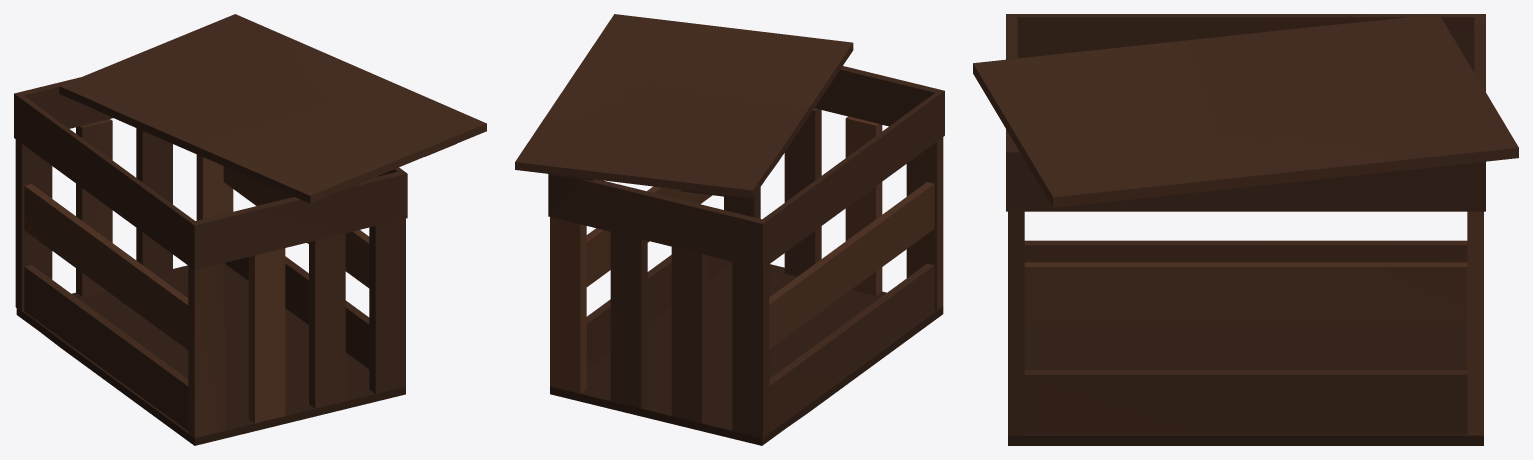
File: Small Dark Crate Open Lid.fbx
3 views of the same model, side by side, from view 1: azimuth 30°, elevation 25°; view 2: azimuth 150°, elevation 25°; view 3: azimuth 270°, elevation 25° (orthographic). The views are drawn at different scales.
Visible parts, largest first — view 1: Small Dark Crate Open Lid; view 2: Small Dark Crate Open Lid; view 3: Small Dark Crate Open Lid.
Part boxes in pixels (left/top/right/bottom): Small Dark Crate Open Lid: left=14, top=14, right=486, bottom=445; Small Dark Crate Open Lid: left=515, top=14, right=944, bottom=445; Small Dark Crate Open Lid: left=973, top=14, right=1518, bottom=445.
Size of the model in its own units: 146 by 232 by 202.
Materials: 1 (1 with a texture image).
